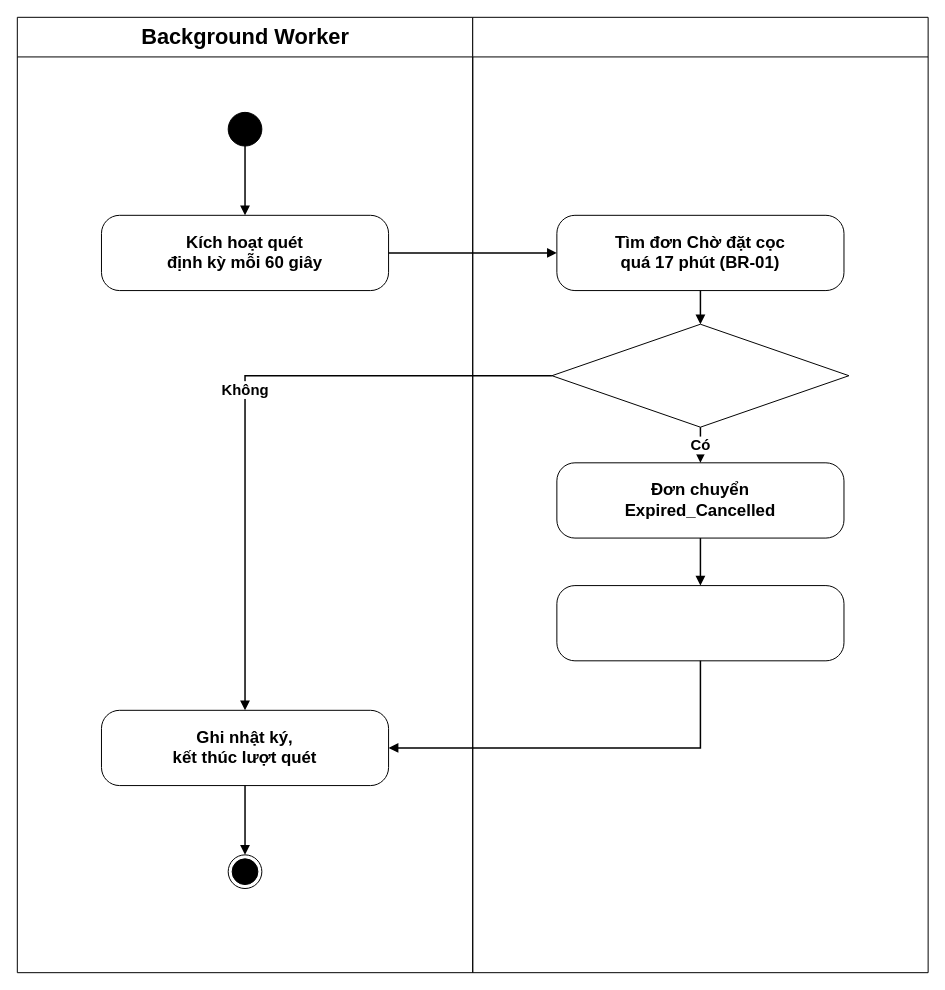
Some shapes in this 945 by 990 pixel diagram are drawn without their labels. The shapes that lost their labels are listed below. From the top down, each one's box as (x1, y1, x2, y2) in pixels, then its label:
(551, 323, 849, 427): Có đơn quá hạn?
(472, 16, 928, 973): Hệ thống
(556, 585, 844, 661): Bàn chuyển từ Locked về Available
